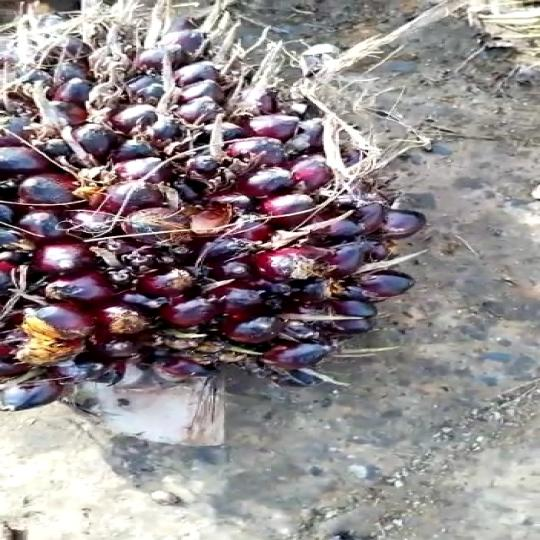kurang masak: (0, 0, 428, 427)
